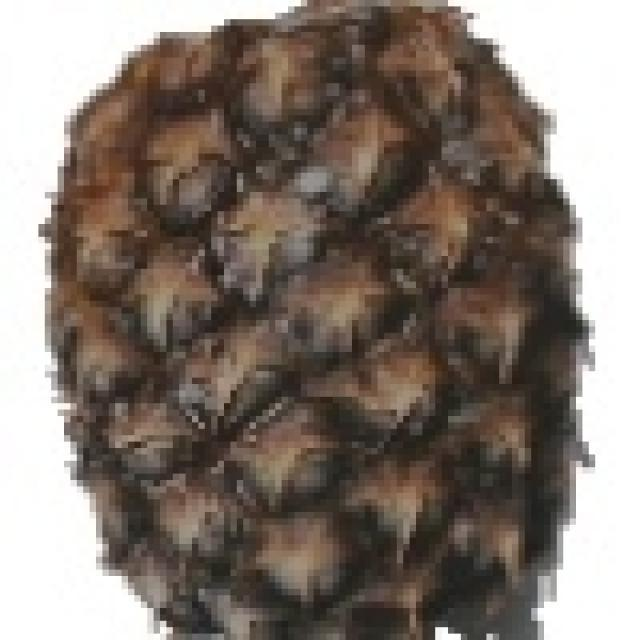pineapple: (45, 0, 584, 640)
